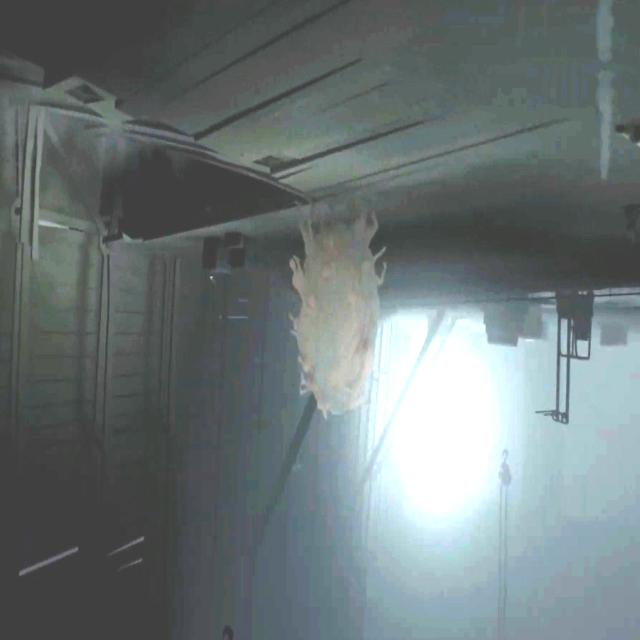blob: (288, 201, 382, 417)
